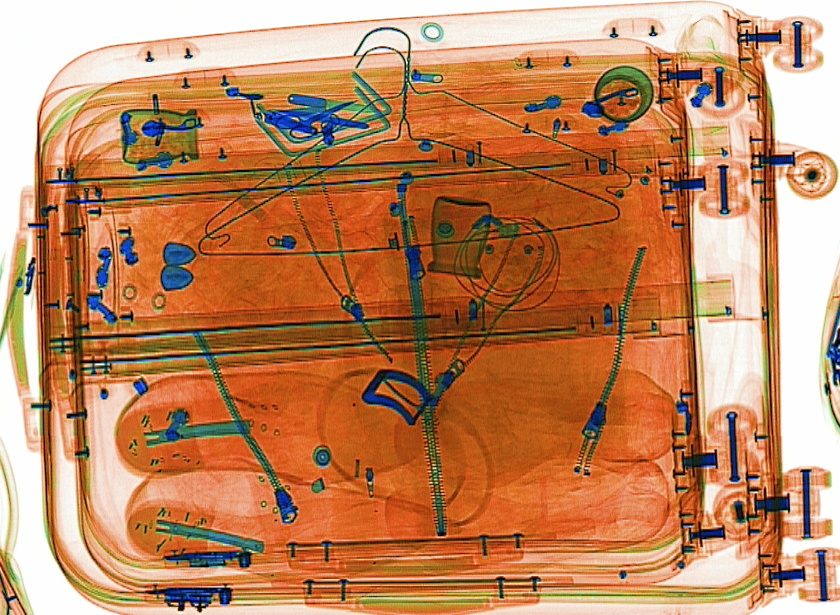scissors: (274, 99, 358, 139)
